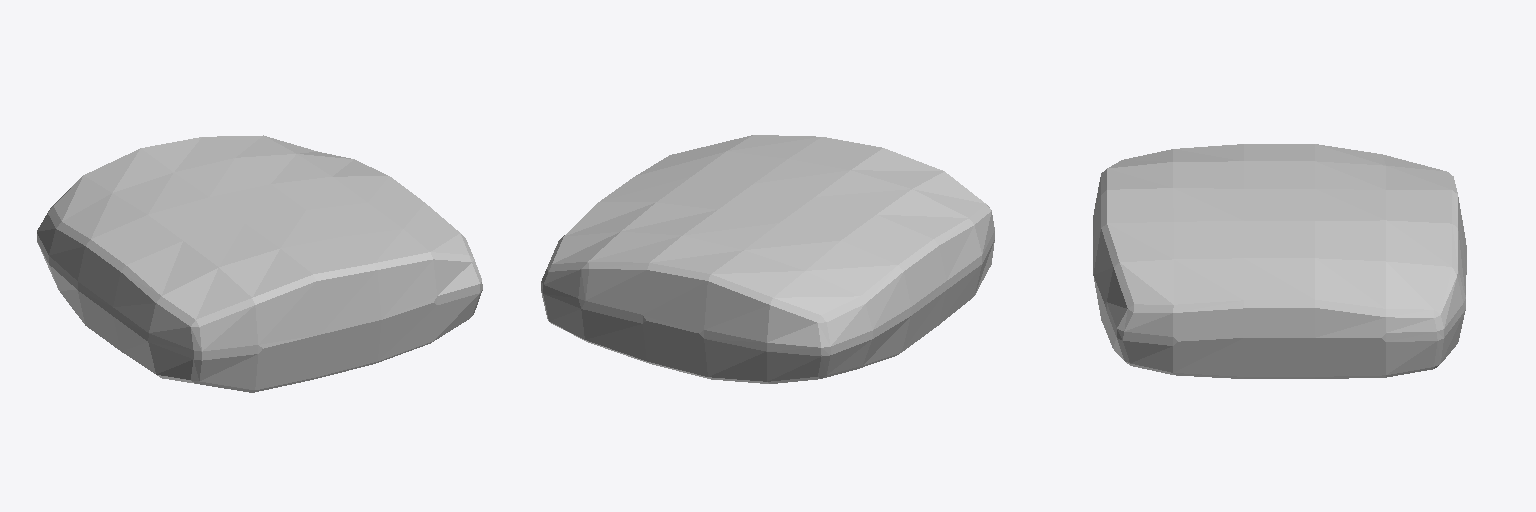
File: Almohagda_.obj
3 renders of one model, left to right at view 1: azimuth 30°, elevation 25°; view 2: azimuth 150°, elevation 25°; view 3: azimuth 270°, elevation 25°, orthographic.
Visible parts, largest first — view 1: Cojin; view 2: Cojin; view 3: Cojin.
Boxes of the visible parts, x1,y1,x2,y2 form: Cojin: [37, 135, 482, 392]; Cojin: [541, 135, 994, 383]; Cojin: [1093, 144, 1466, 378].
Bounding box in the file's own units: 24.17 × 7.71 × 24.28.